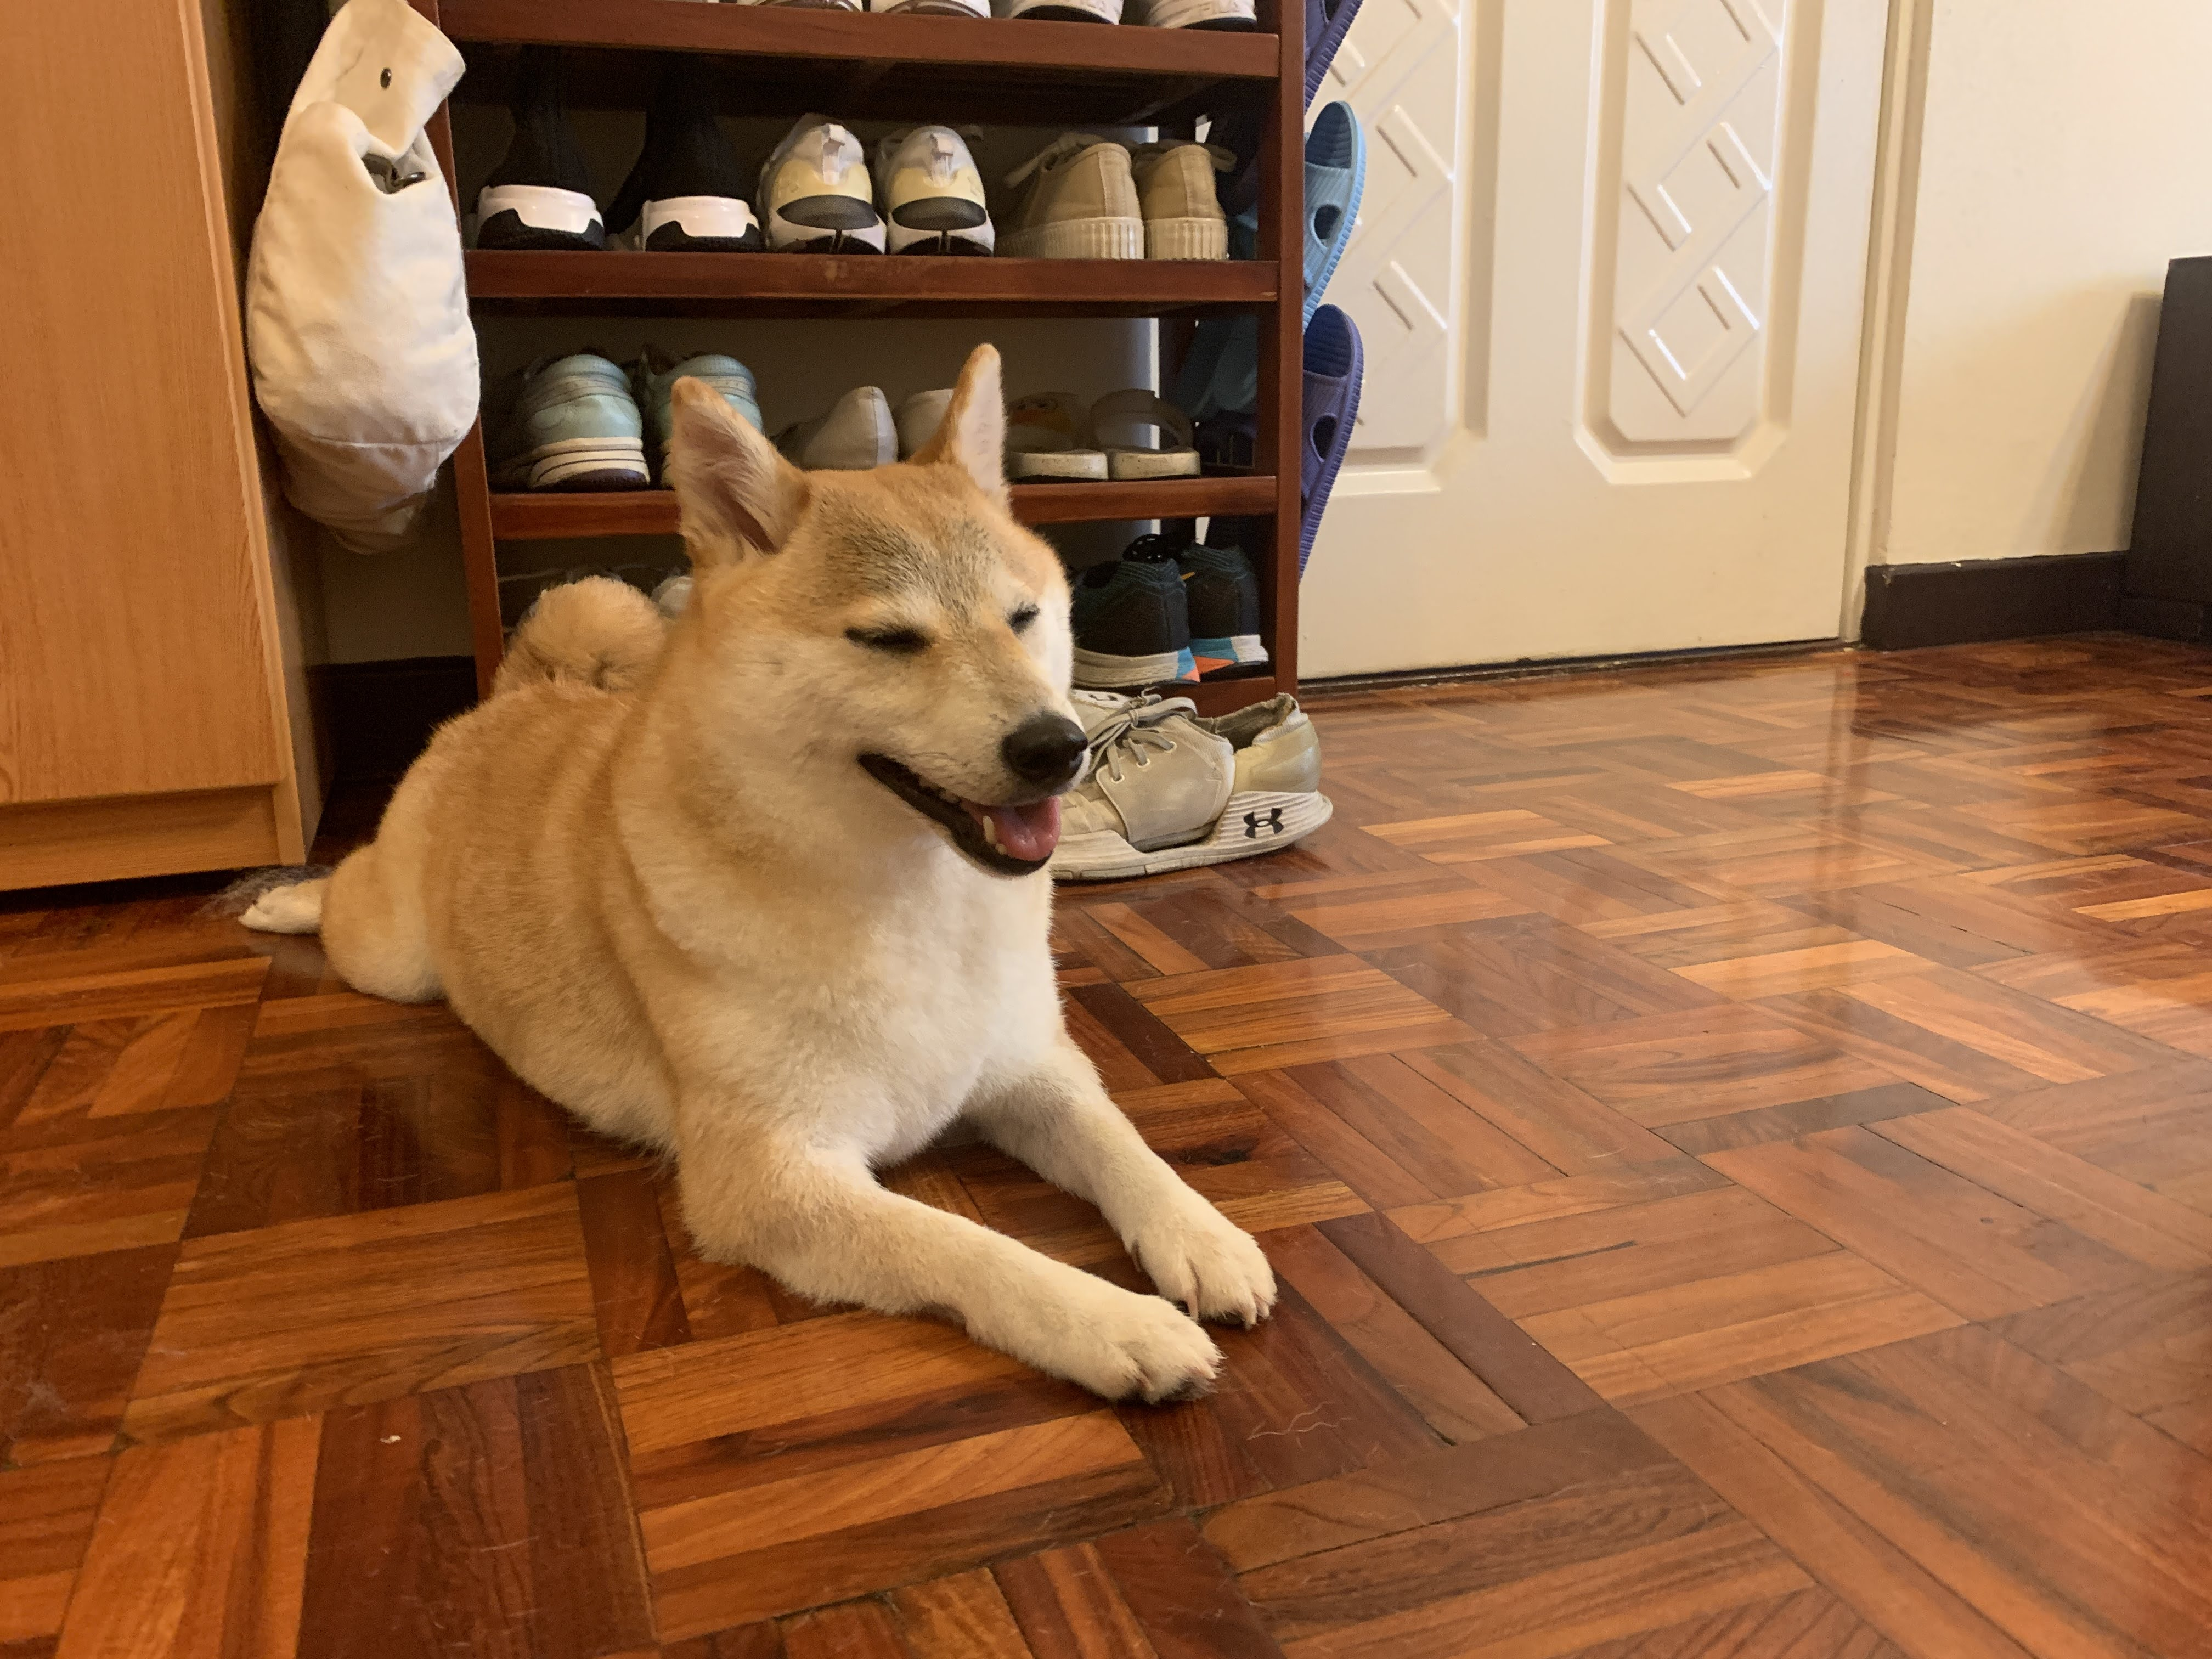Get down: (280, 336, 1348, 1384)
